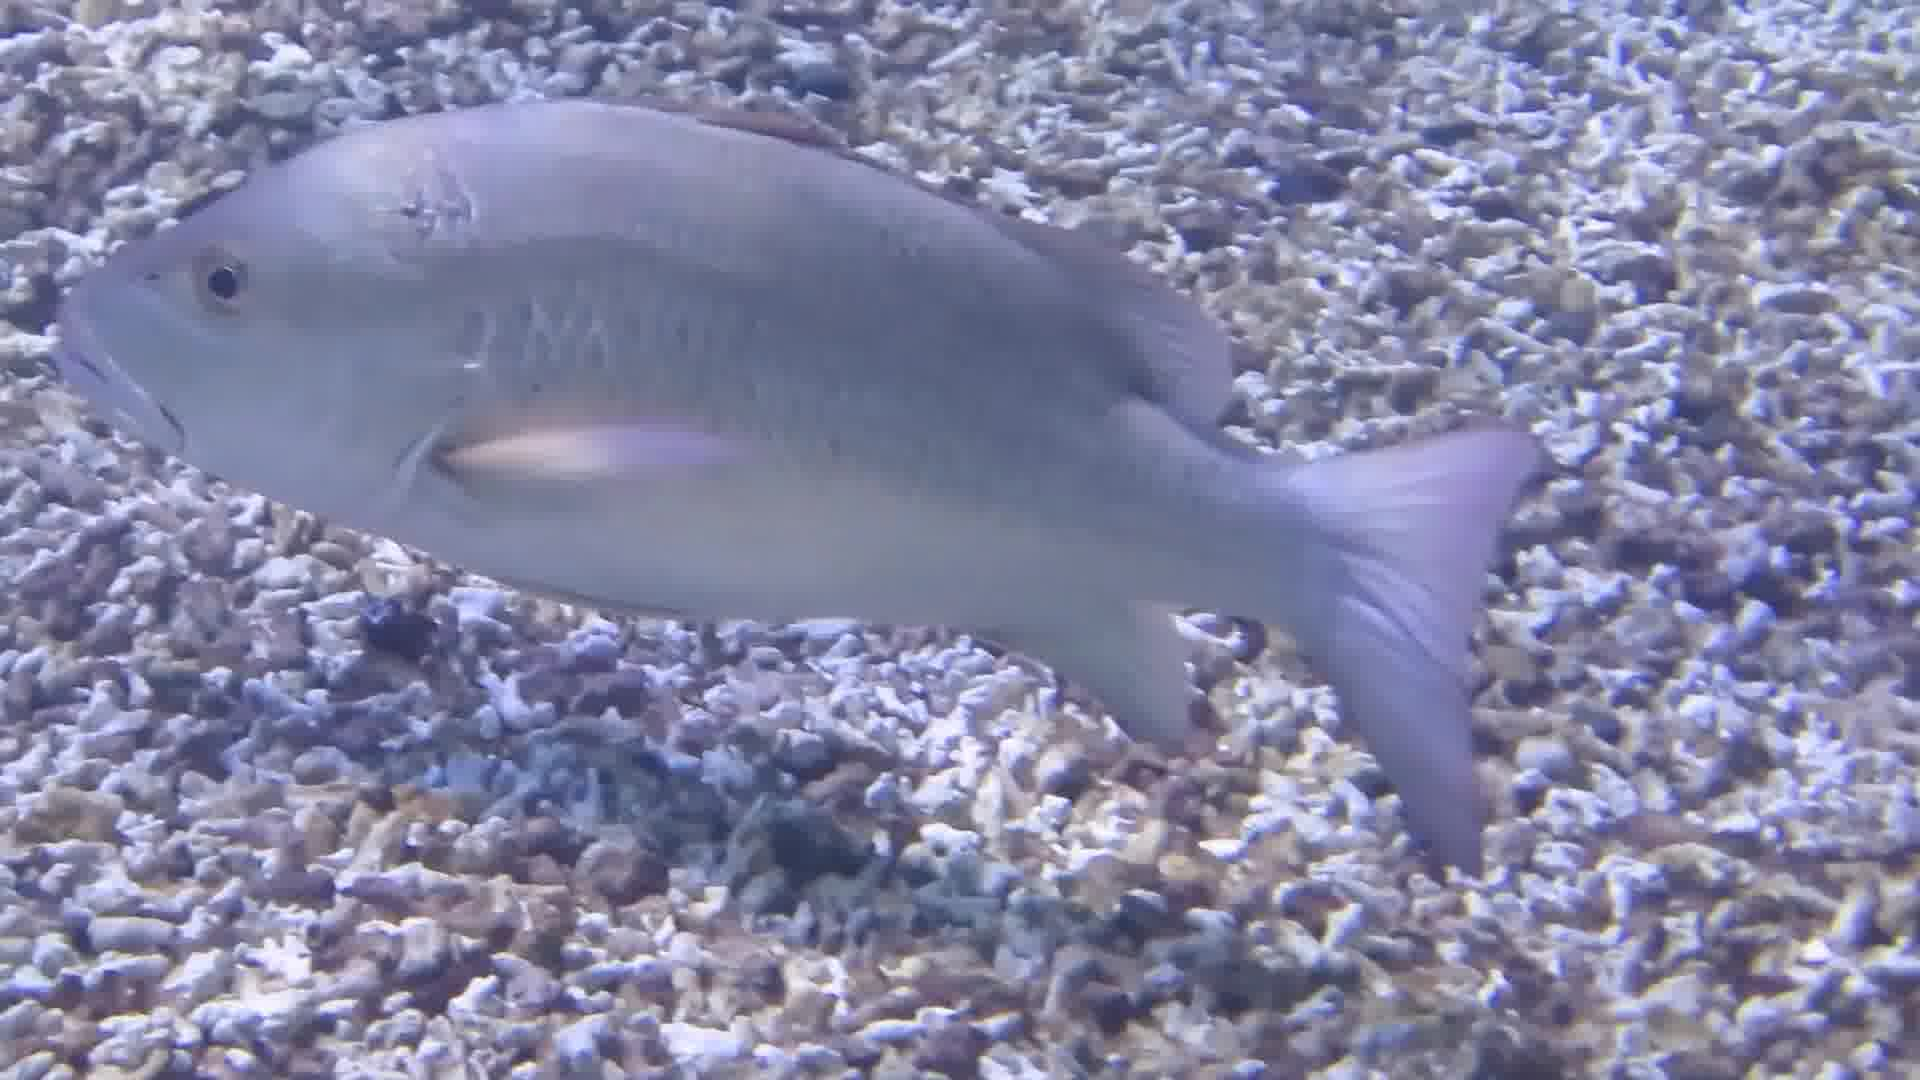Lutjanus argentimaculatus: (25, 75, 1276, 650)
